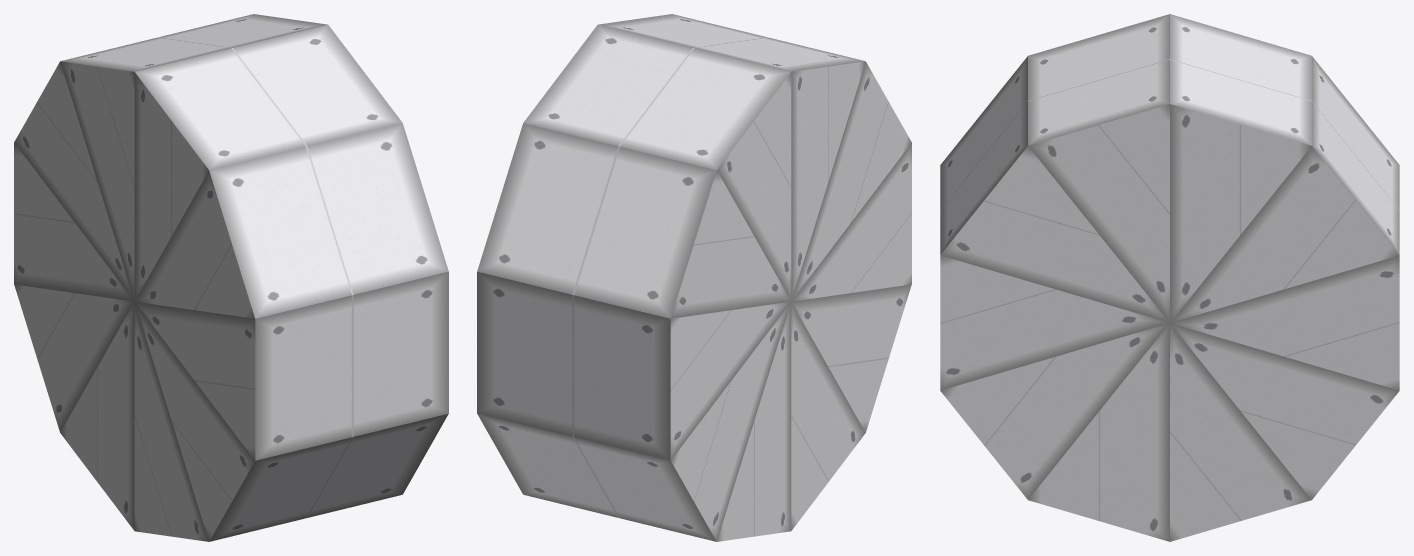
File: wheel.obj
3 renders of one model, left to right at view 1: azimuth 30°, elevation 25°; view 2: azimuth 150°, elevation 25°; view 3: azimuth 270°, elevation 25°, orthographic. The views are drawn at different scales.
Size of the model in its own units: 0.3 by 0.68 by 0.6468.
1 material, 1 textured.
